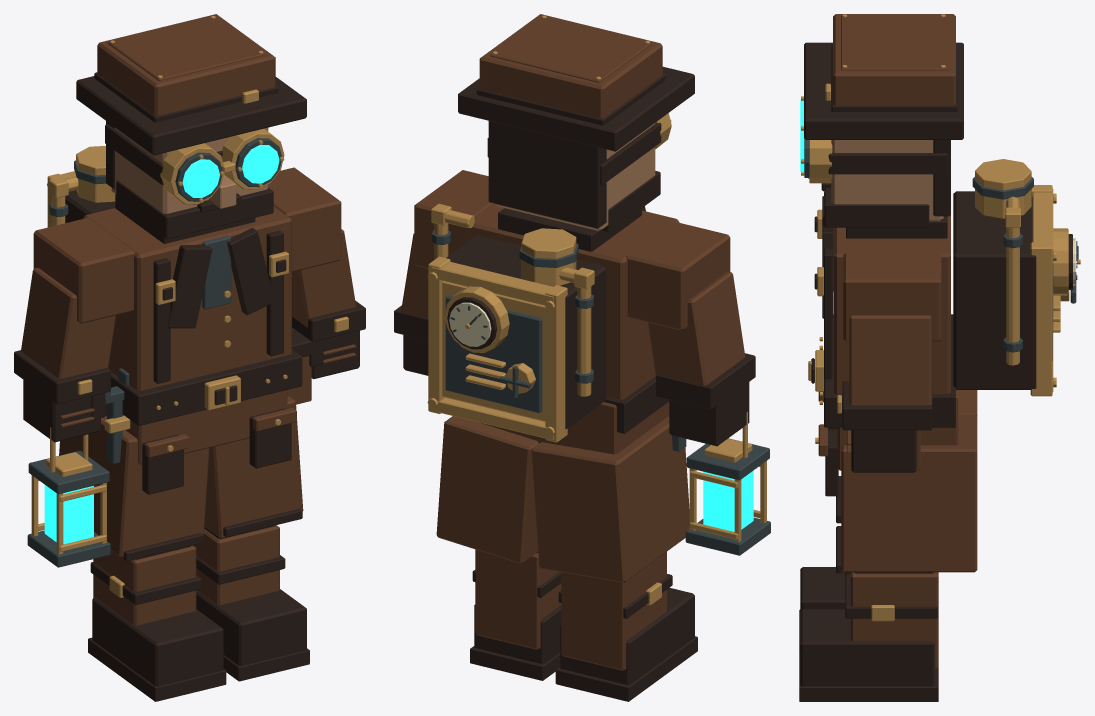
The model's file is mechanic.glb.
The picture shows the model from 3 angles, left to right: view 1: azimuth 30°, elevation 25°; view 2: azimuth 150°, elevation 25°; view 3: azimuth 270°, elevation 25°; orthographic projection. The views are drawn at different scales.
Parts seen in each view (by area): view 1: BodyMesh, HeadMesh, RightArmMesh, RightLegMesh, LeftLegMesh, LeftArmMesh; view 2: BodyMesh, HeadMesh, RightArmMesh, RightLegMesh, LeftLegMesh, LeftArmMesh; view 3: BodyMesh, HeadMesh, LeftArmMesh, LeftLegMesh, RightLegMesh.
Part boxes in pixels (x1,y1,x2,y2): BodyMesh: (47,146,318,561); HeadMesh: (76,14,306,238); RightArmMesh: (14,217,134,567); RightLegMesh: (88,545,226,701); LeftLegMesh: (193,525,309,681); LeftArmMesh: (268,167,365,379); BodyMesh: (427,203,689,582); HeadMesh: (458,14,694,232); RightArmMesh: (626,221,770,555); RightLegMesh: (555,552,697,701); LeftLegMesh: (470,549,561,680); LeftArmMesh: (394,170,492,375); BodyMesh: (808,159,1080,573); HeadMesh: (800,14,963,227); LeftArmMesh: (837,252,941,472); LeftLegMesh: (799,572,938,701); RightLegMesh: (799,567,850,651).
Bounding box in the file's own units: 1 × 1.82 × 0.7465.
